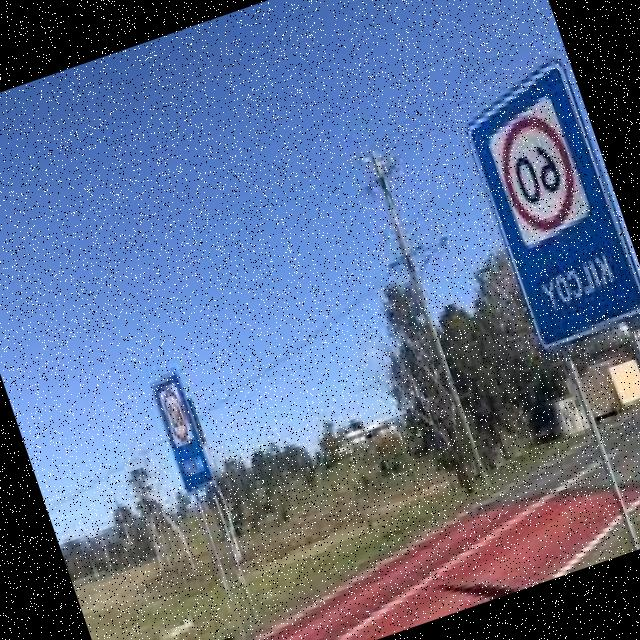speed_limit_60: (484, 103, 590, 236)
